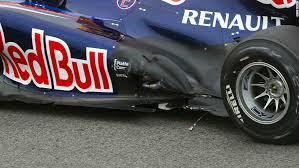Fender: (104, 23, 232, 100)
